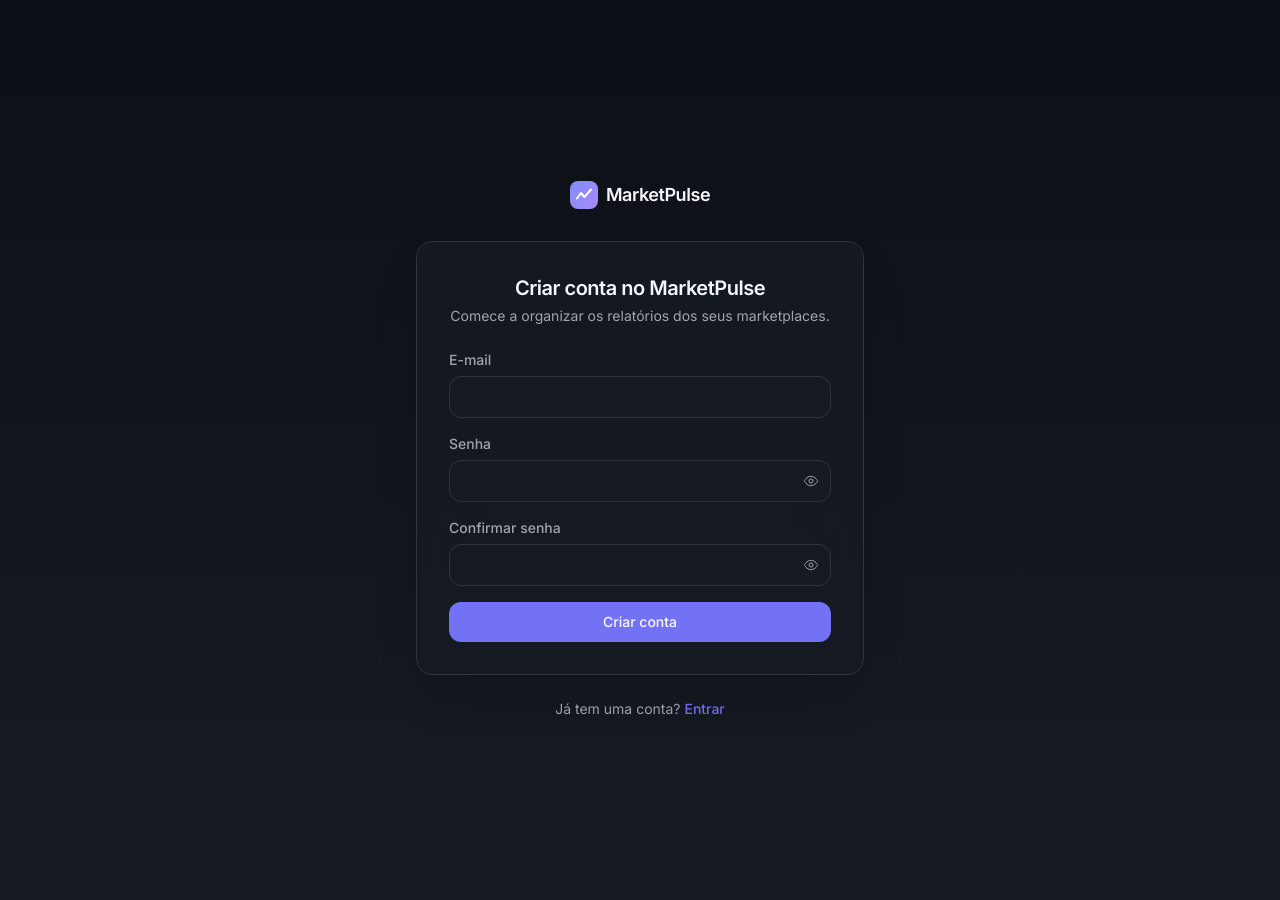
Test case: RegisterPage › shows a server error message when registration fails
In the field labelled "E-mail": point(640, 397) [449,376,831,418], type "user@example.com"
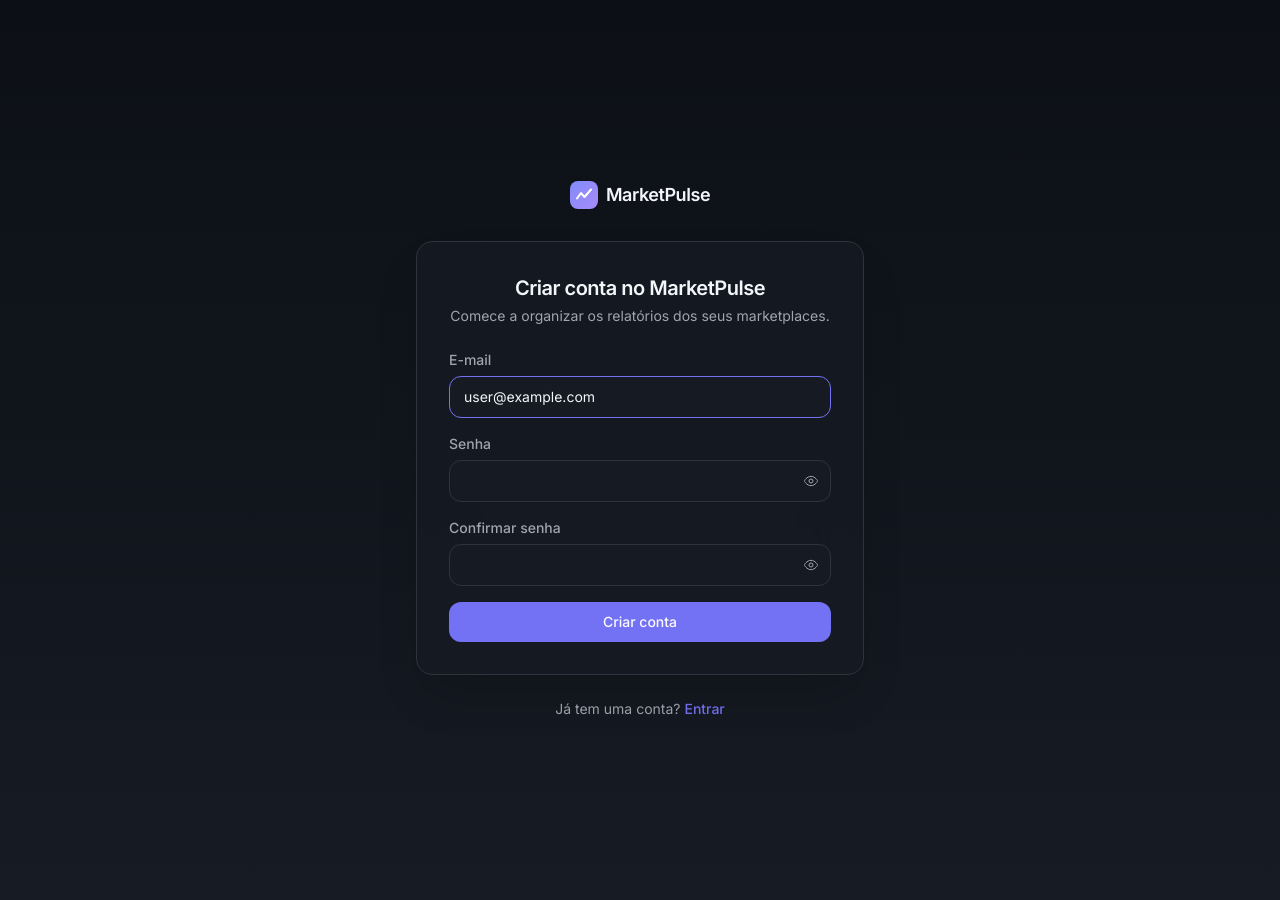
In the password field labelled "Senha": point(640, 481) [449,460,831,502], type "Sup3rSecret!"
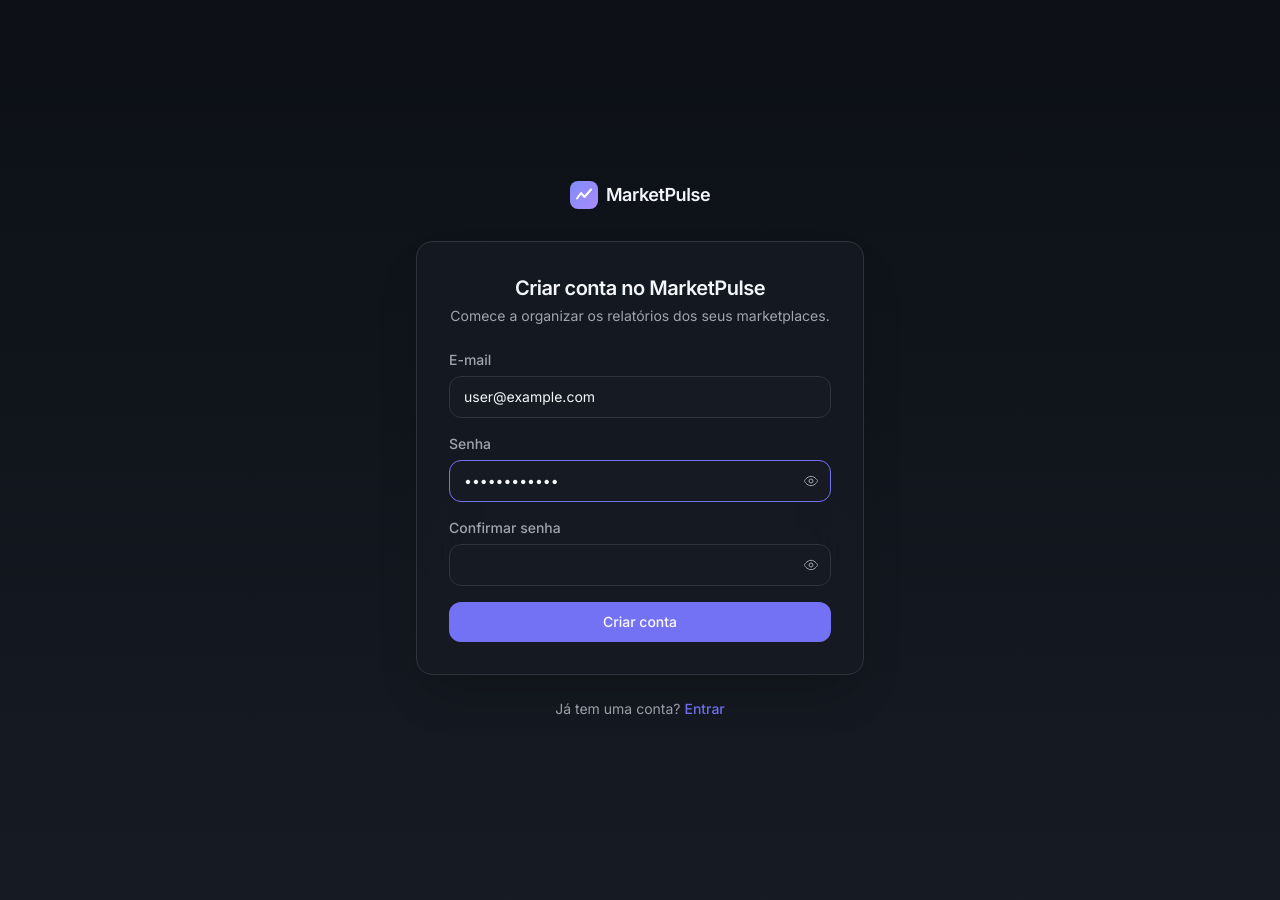
In the password field labelled "Confirmar senha": point(640, 565) [449,544,831,586], type "Sup3rSecret!"
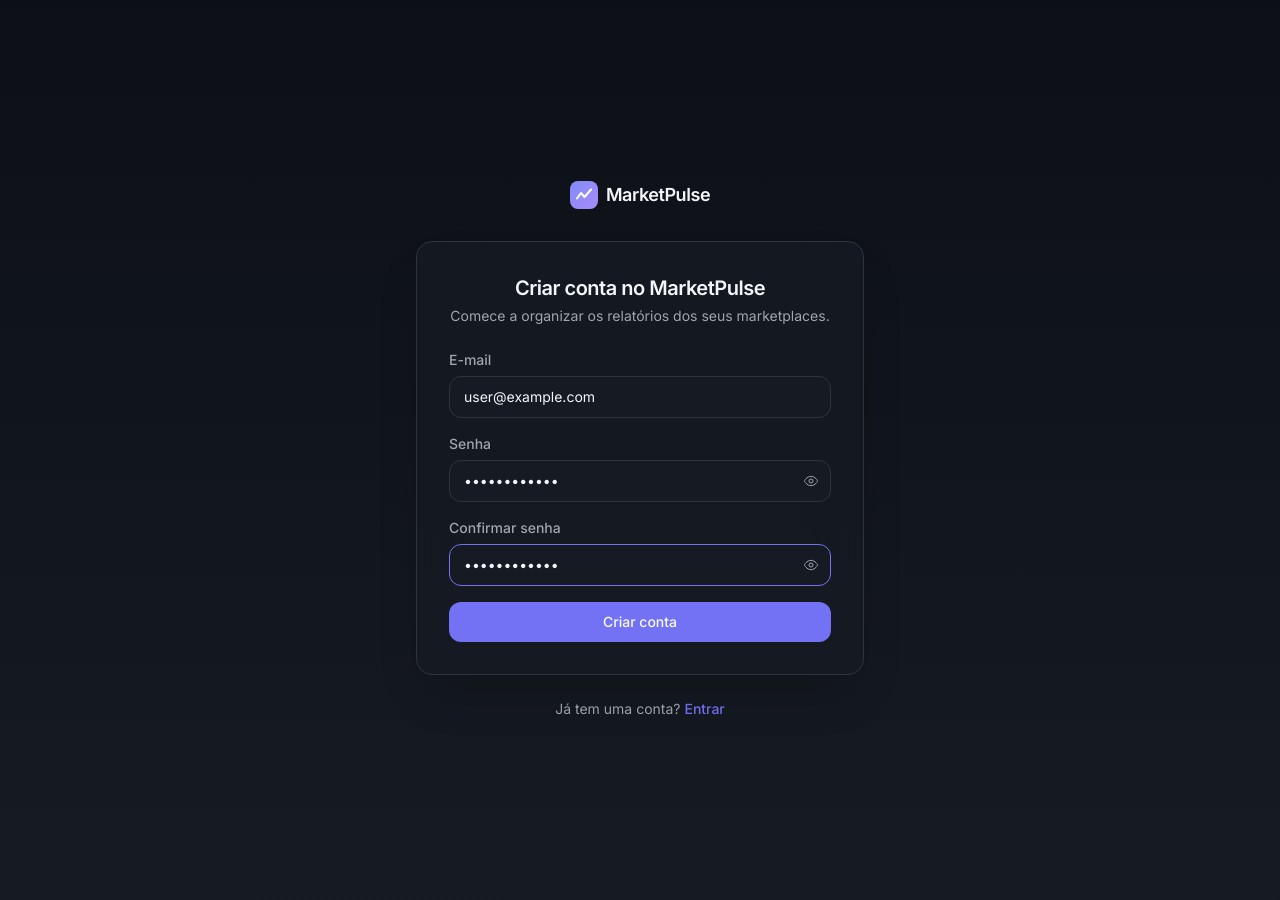
Click the button "Criar conta": point(640, 622) [449,602,831,642]
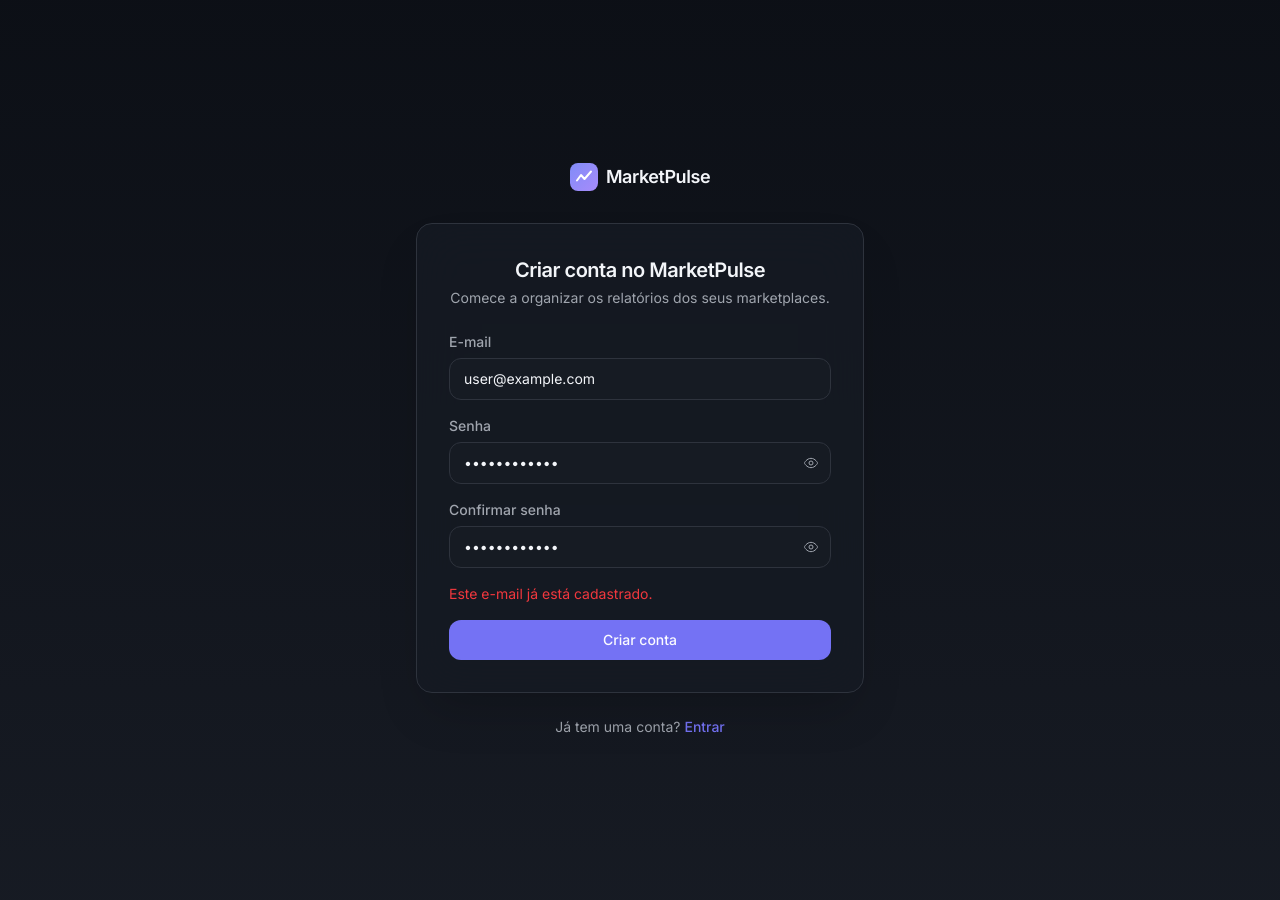
Check: the message reads "Este e-mail já está cadastrado.", box [449,585,652,602]
